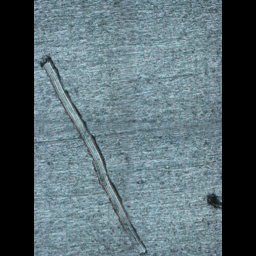d: (39, 52, 149, 255)
